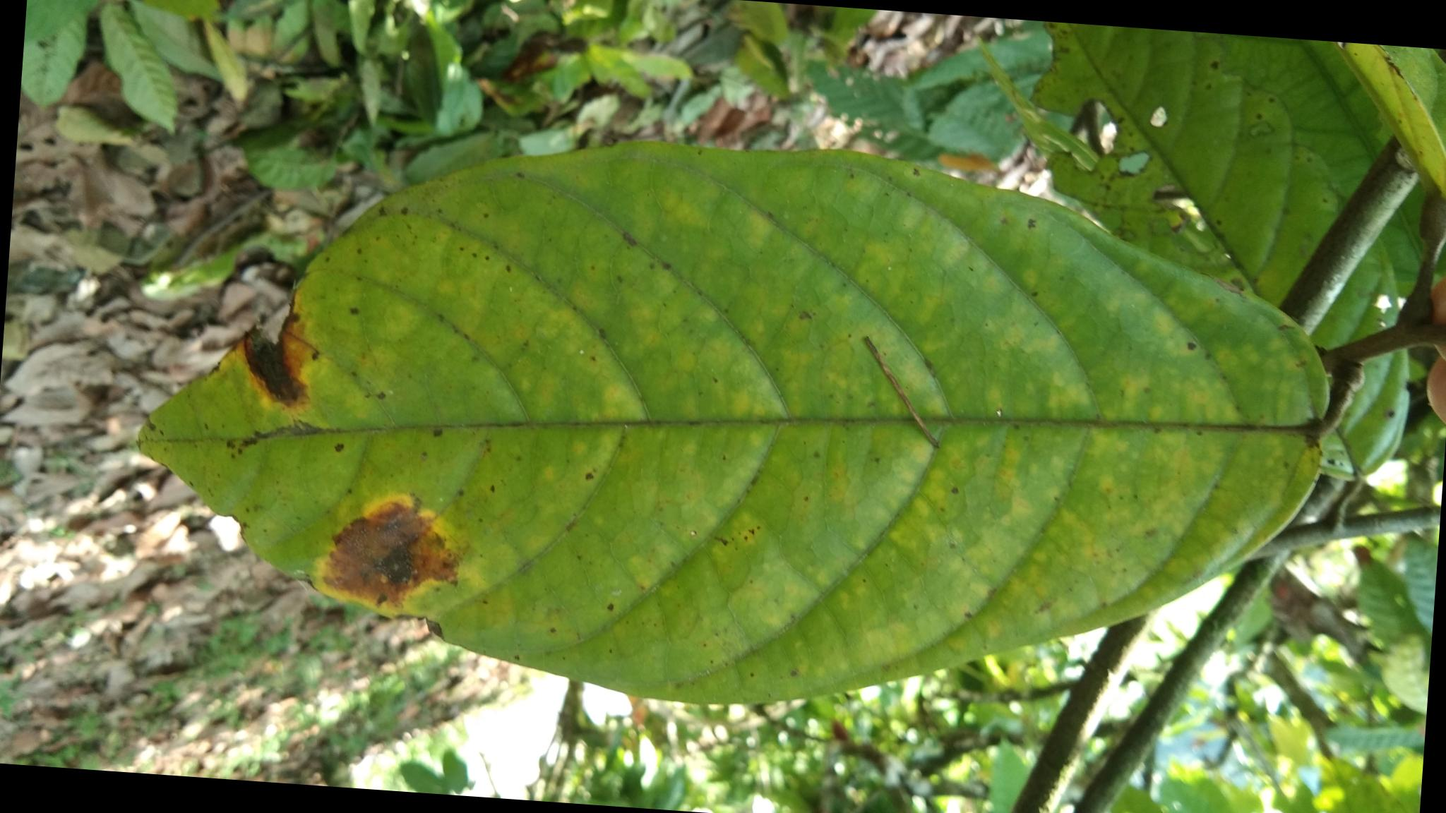Fosforo: (142, 146, 1325, 708)
